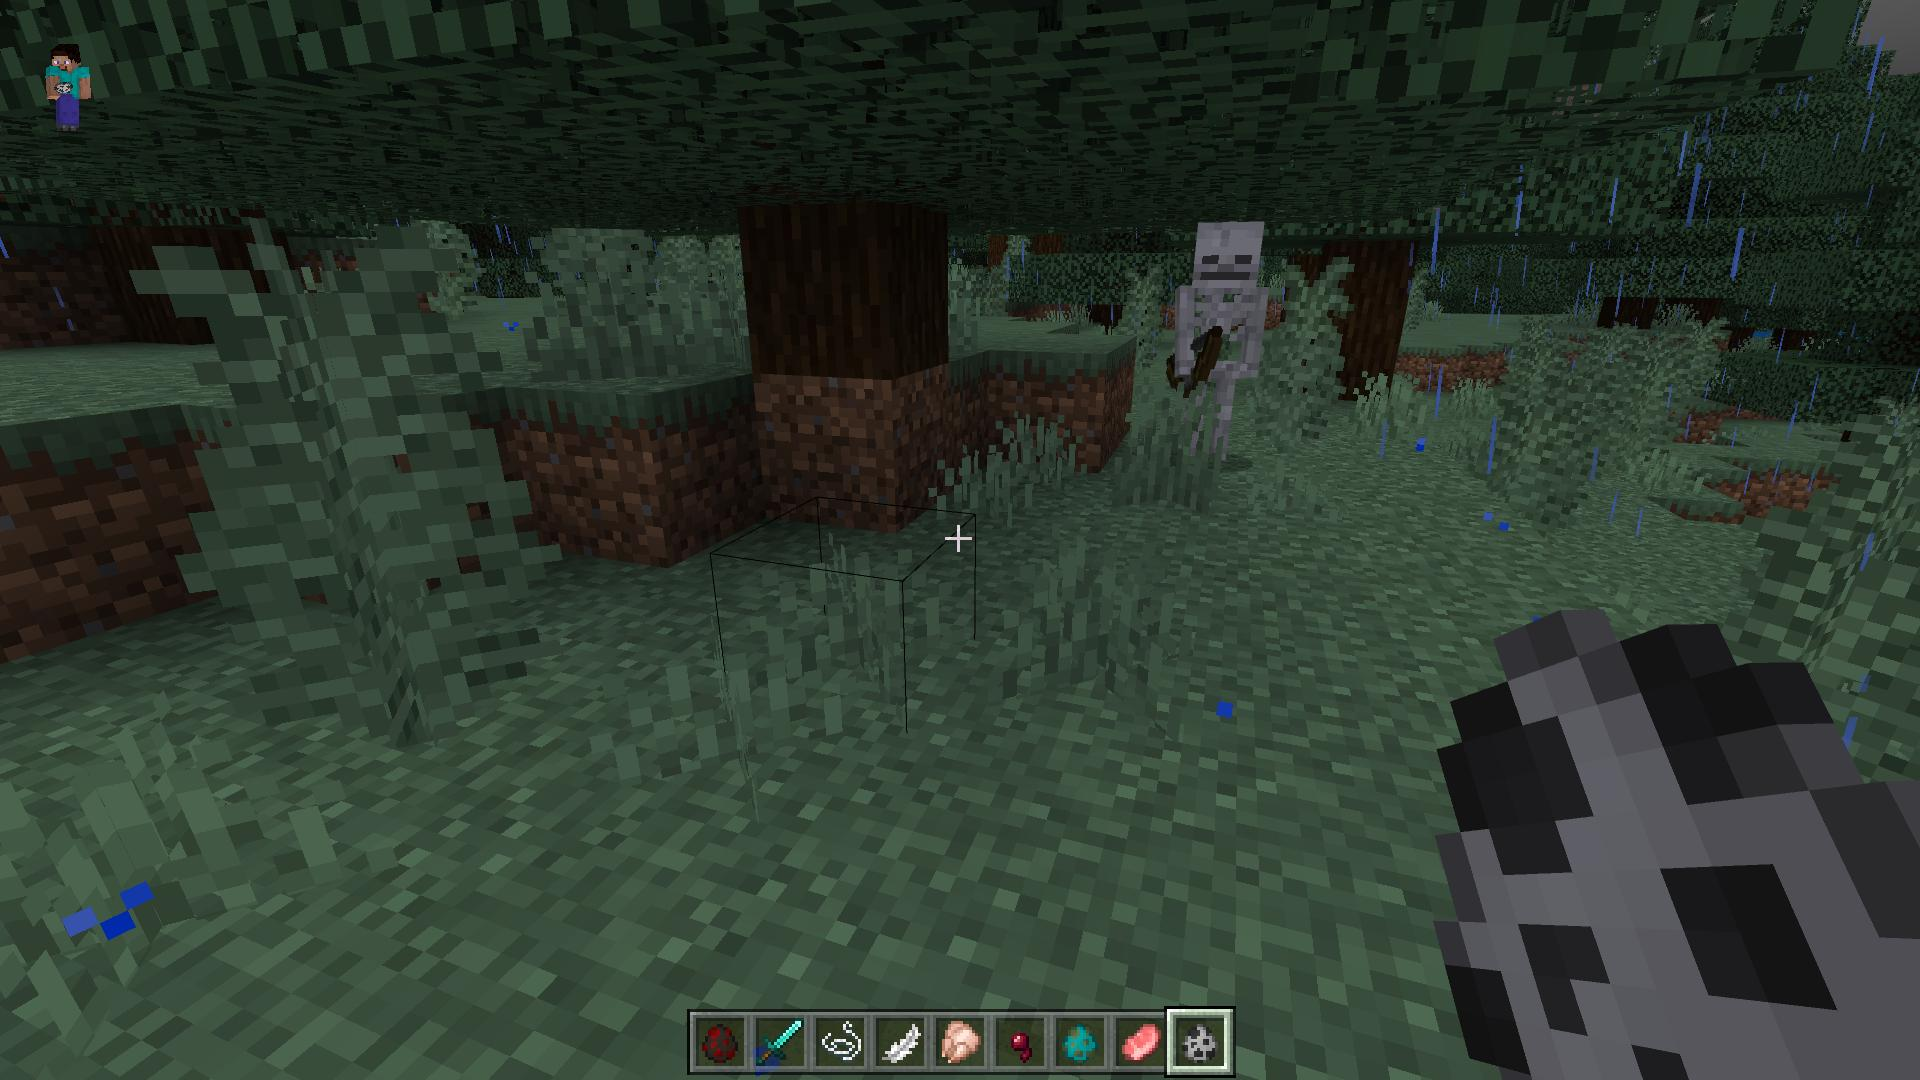skeleton: (1167, 216, 1271, 456)
